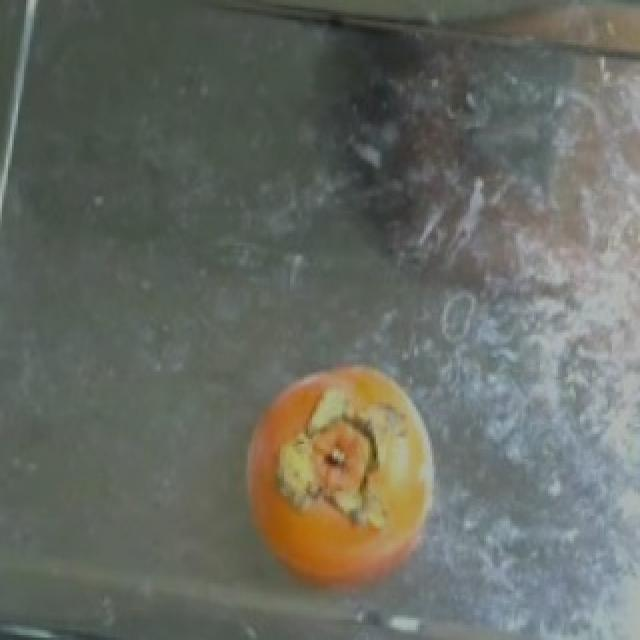Fruit: (230, 342, 460, 618)
